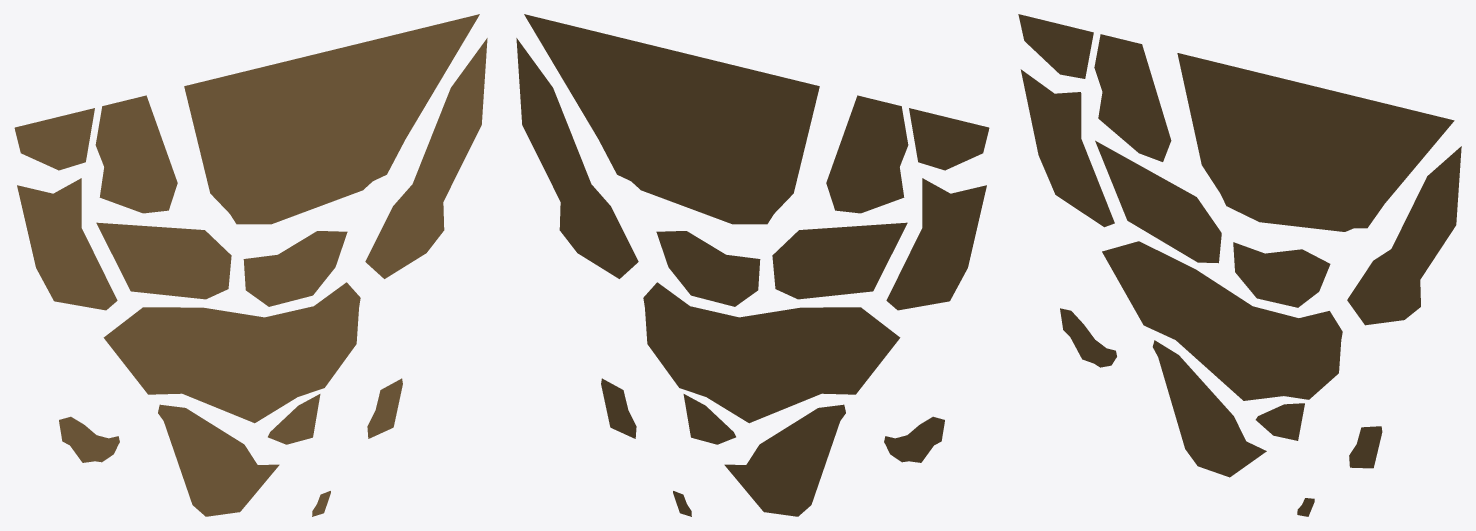
File: earth.fbx
3 renders of one model, left to right at view 1: azimuth 30°, elevation 25°; view 2: azimuth 150°, elevation 25°; view 3: azimuth 330°, elevation 25°, orthographic. The views are drawn at different scales.
Visible parts, largest first — view 1: Earth bending element icon.001; view 2: Earth bending element icon.001; view 3: Earth bending element icon.001.
Boxes of the visible parts, left/top/right/bottom form: Earth bending element icon.001: left=14, top=14, right=487, bottom=516; Earth bending element icon.001: left=516, top=14, right=989, bottom=516; Earth bending element icon.001: left=1018, top=14, right=1461, bottom=516.
Size of the model in its own units: 250 by 234 by 3.33e-05.
